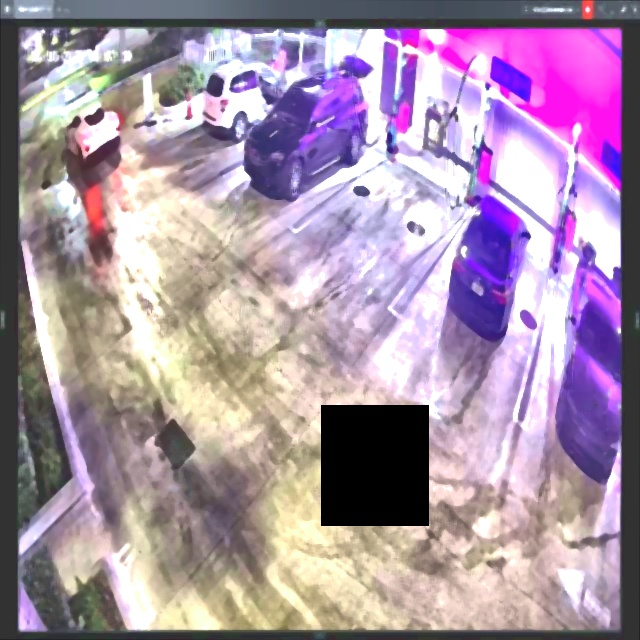Car: (244, 60, 370, 201), (447, 194, 528, 337)
